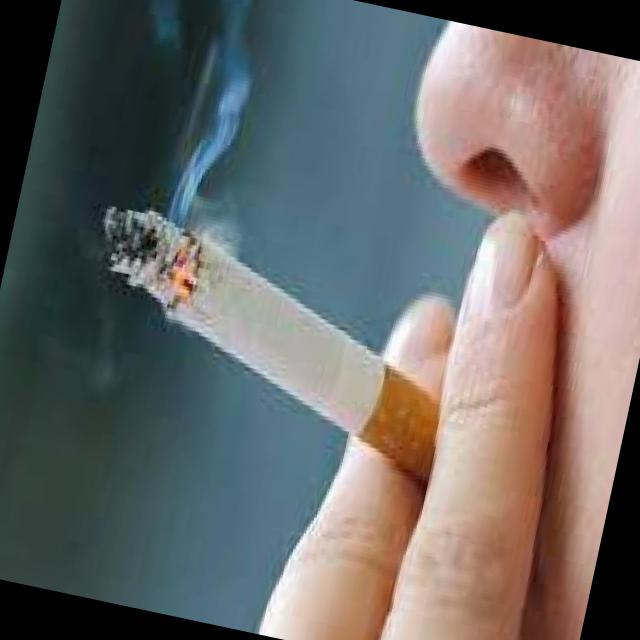cigarette: (60, 194, 472, 491)
